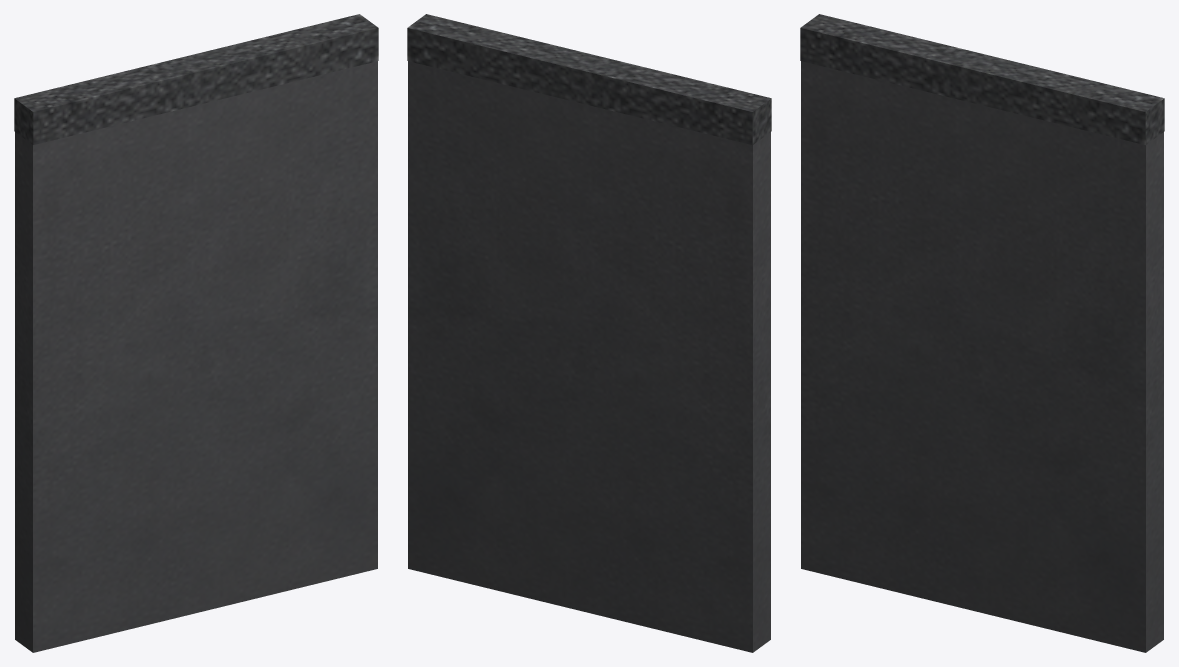
Rendered from 01_wall_straight.glb.
3 renders of one model, left to right at view 1: azimuth 30°, elevation 25°; view 2: azimuth 150°, elevation 25°; view 3: azimuth 330°, elevation 25°, orthographic.
Visible parts, largest first — view 1: part_1.006; view 2: part_1.006; view 3: part_1.006.
Boxes of the visible parts, x1,y1,x2,y2 form: part_1.006: [14, 14, 378, 652]; part_1.006: [407, 14, 771, 652]; part_1.006: [800, 14, 1164, 652].
Bounding box in the file's own units: 2 × 3 × 0.1902.
